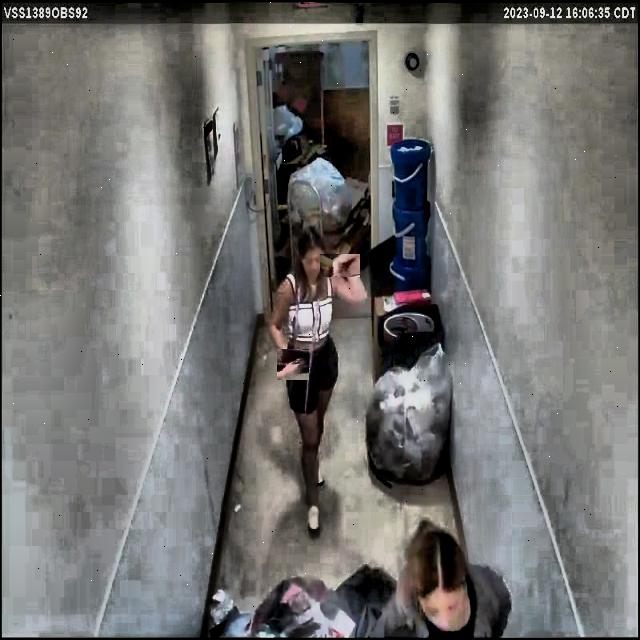not-gloved: (278, 348, 310, 380), (324, 250, 356, 282)
